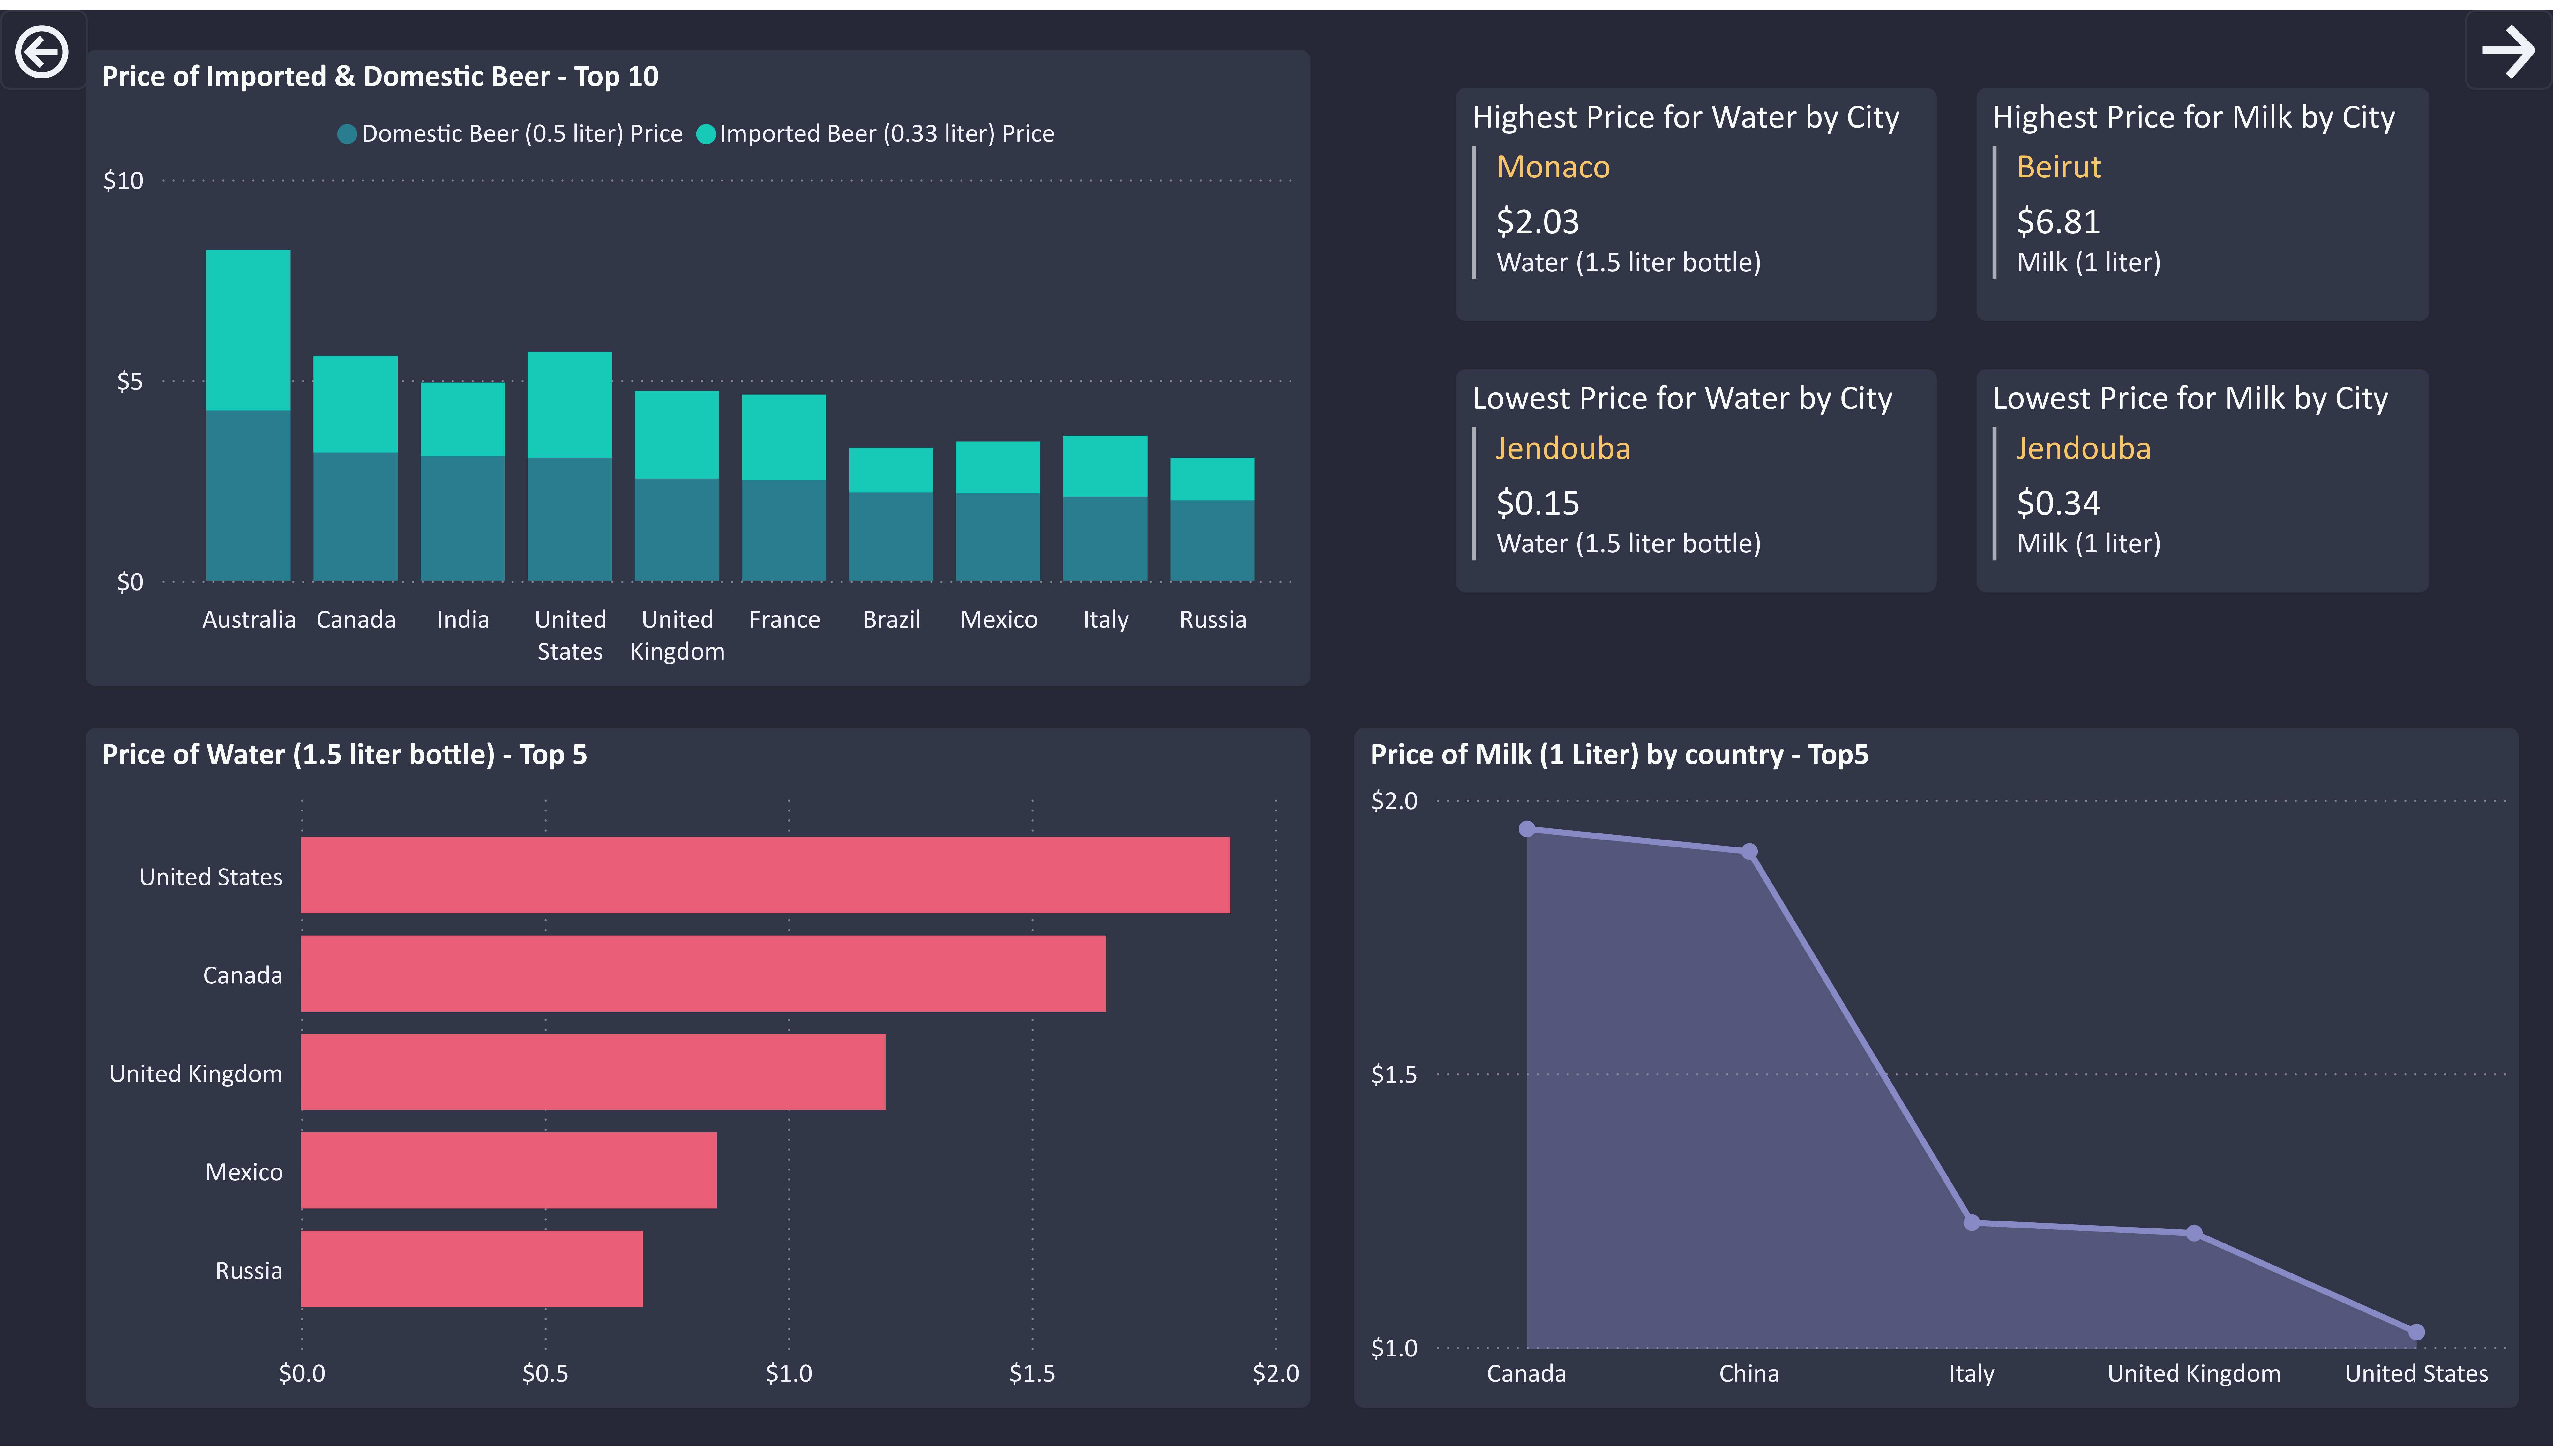

This screenshot's page, from the dashboard's own definition file:
{"tool":"powerbi","page":{"name":"Drink","canvas":[1280,720],"ordinal":2},"visuals":[{"type":"barChart","title":"Price of Water (1.5 liter bottle) - Top 5","fields":{"Y":["Avg(cost-of-living_v2.Water (1.5 liter bottle, at the market) (USD))"],"Category":["cost-of-living_v2.country"]},"box":[42.9,360,614.3,341.4],"z":0},{"type":"areaChart","title":"Price of Milk (1 Liter) by country - Top5","fields":{"Category":["cost-of-living_v2.country"],"Y":["Avg(cost-of-living_v2.Milk (regular), (1 liter) (USD))"]},"box":[678.6,360,584.3,341.4],"z":1000},{"type":"lineStackedColumnComboChart","title":"Price of Imported & Domestic Beer - Top 10 ","fields":{"Category":["cost-of-living_v2.country"],"Y":["Avg(cost-of-living_v2.Imported Beer (0.33 liter bottle, at the market) (USD))","Avg(cost-of-living_v2.Domestic Beer (0.5 liter bottle, at the market) (USD))"]},"box":[42.9,20,614.3,318.6],"z":2000},{"type":"actionButton","box":[0,0,43.8,40],"z":3000},{"type":"multiRowCard","title":"Highest Price for Water by City","fields":{"Values":["cost-of-living_v2.city","cost-of-living_v2.Water (1.5 liter bottle, at the market) (USD)"]},"box":[730.3,39.4,240.9,116.7],"z":4000},{"type":"multiRowCard","title":"Highest Price for Milk by City","fields":{"Values":["cost-of-living_v2.city","cost-of-living_v2.Milk (regular), (1 liter) (USD)"]},"box":[990.9,39.4,227.3,116.7],"z":5000},{"type":"multiRowCard","title":"Lowest Price for Water by City","fields":{"Values":["cost-of-living_v2.city","cost-of-living_v2.Water (1.5 liter bottle, at the market) (USD)"]},"box":[730.3,180.3,240.9,112.1],"z":6000},{"type":"multiRowCard","title":"Lowest Price for Milk by City","fields":{"Values":["cost-of-living_v2.city","cost-of-living_v2.Milk (regular), (1 liter) (USD)"]},"box":[990.9,180.3,227.3,112.1],"z":7000},{"type":"actionButton","box":[1235.7,0,44.3,40],"z":8000}]}

Visuals, with their boxes in screenshot pixels (x1, y1, x2, y2), scaled from the page's 1280x720 canvas onto the 2553x1456 screenshot:
"Price of Water (1.5 liter bottle) - Top 5" barChart: [left=86, top=728, right=1311, bottom=1418]
"Price of Milk (1 Liter) by country - Top5" areaChart: [left=1353, top=728, right=2519, bottom=1418]
"Price of Imported & Domestic Beer - Top 10 " lineStackedColumnComboChart: [left=86, top=41, right=1311, bottom=685]
actionButton: [left=0, top=0, right=87, bottom=81]
"Highest Price for Water by City" multiRowCard: [left=1456, top=80, right=1937, bottom=316]
"Highest Price for Milk by City" multiRowCard: [left=1976, top=80, right=2430, bottom=316]
"Lowest Price for Water by City" multiRowCard: [left=1456, top=365, right=1937, bottom=591]
"Lowest Price for Milk by City" multiRowCard: [left=1976, top=365, right=2430, bottom=591]
actionButton: [left=2465, top=0, right=2553, bottom=81]
